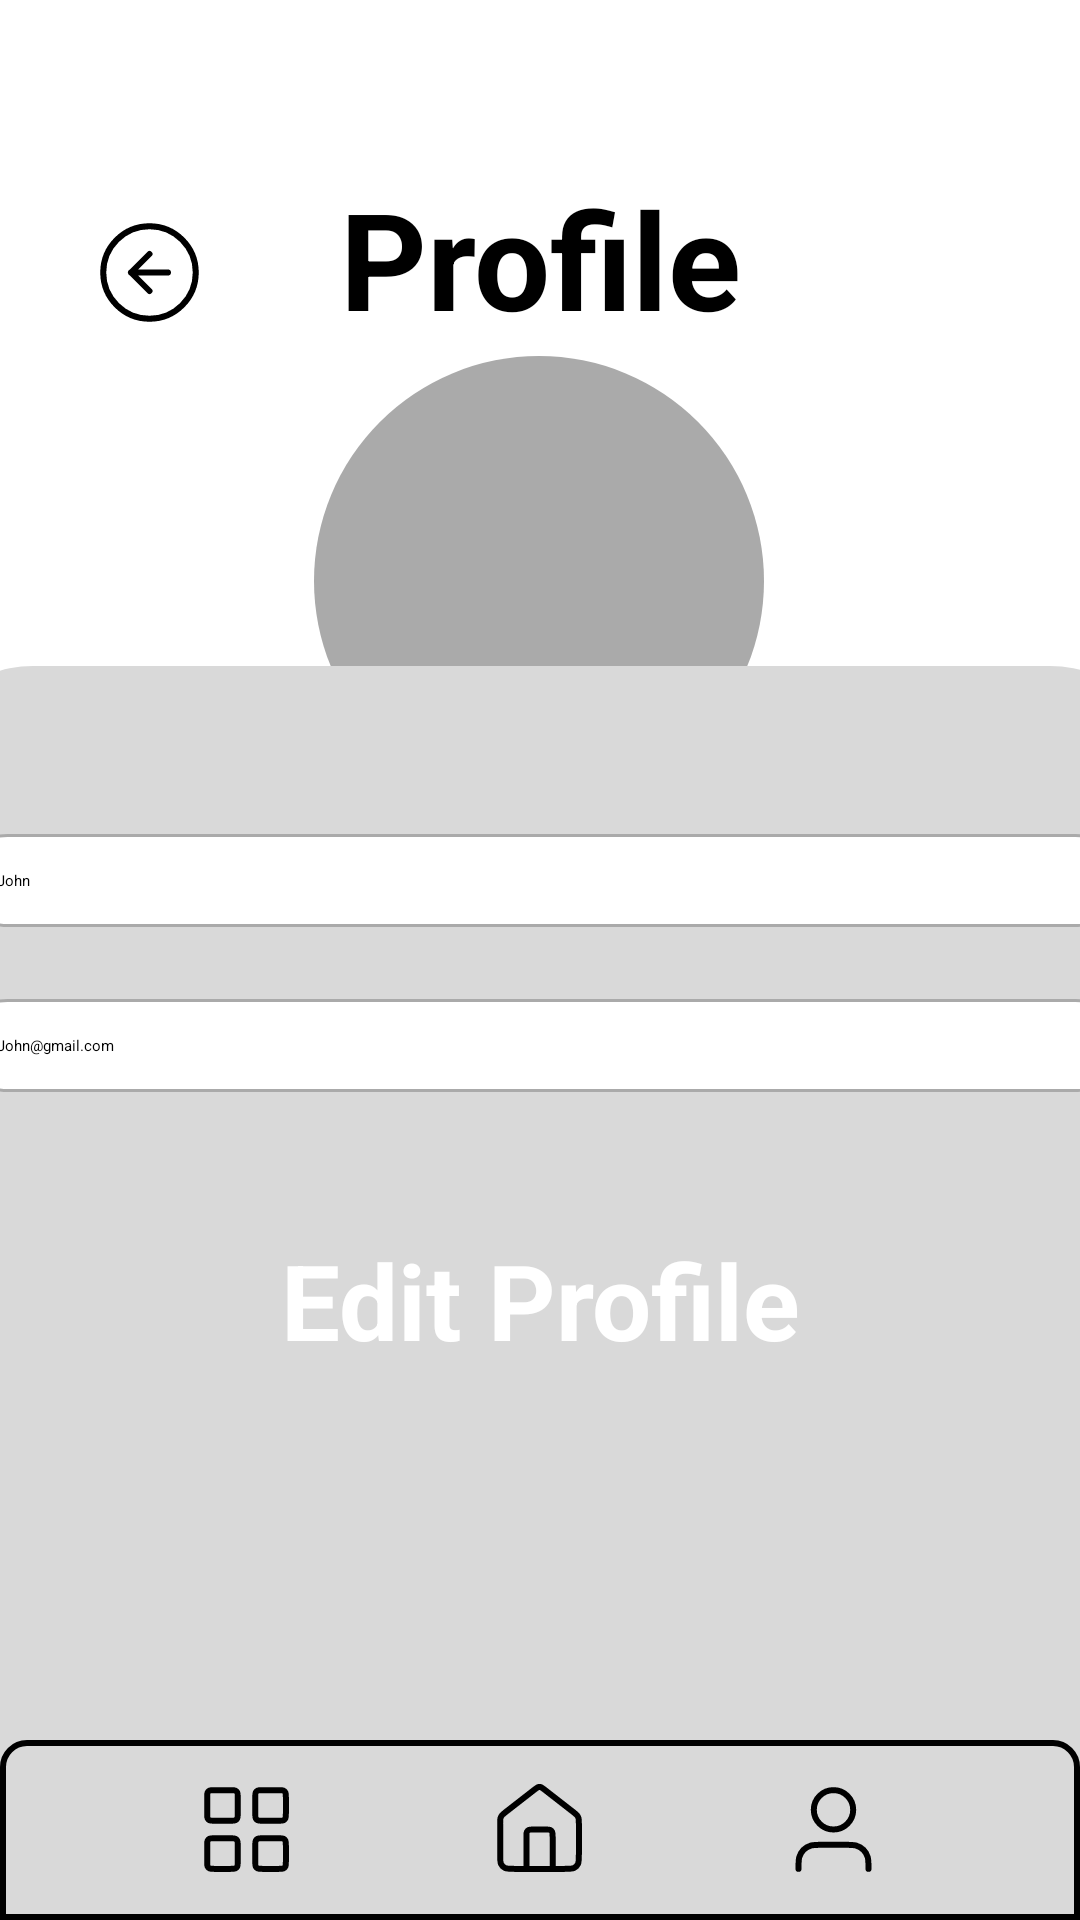

Named icons in this screenshot (1080px x 1920px) and their bounding boxes, bbox=(x1, y1, x2, y2):
backbutton: bbox=(100, 223, 199, 322)
grid: bbox=(204, 1787, 289, 1872)
home: bbox=(497, 1784, 582, 1872)
user: bbox=(795, 1787, 872, 1872)
